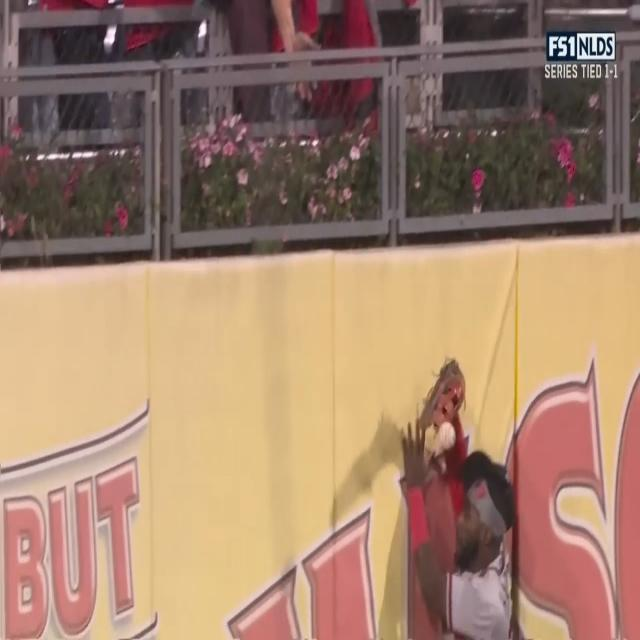baseball: (437, 420, 457, 451)
